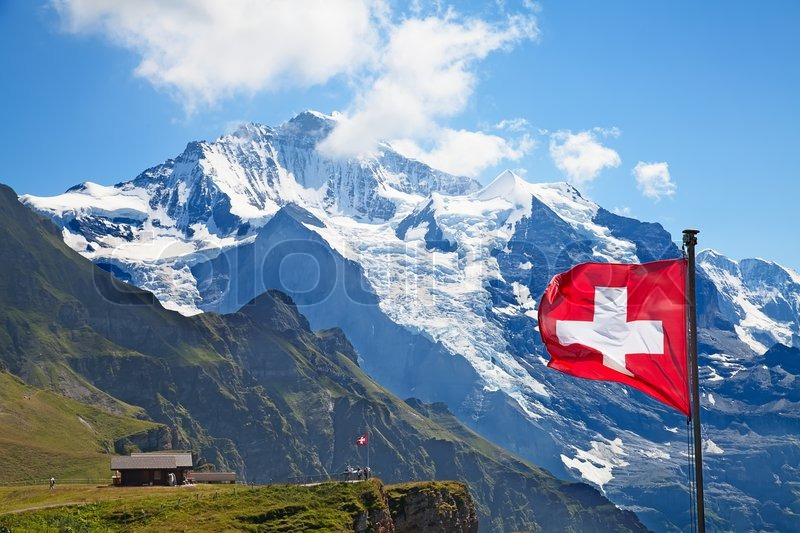Flag: (537, 254, 703, 426)
